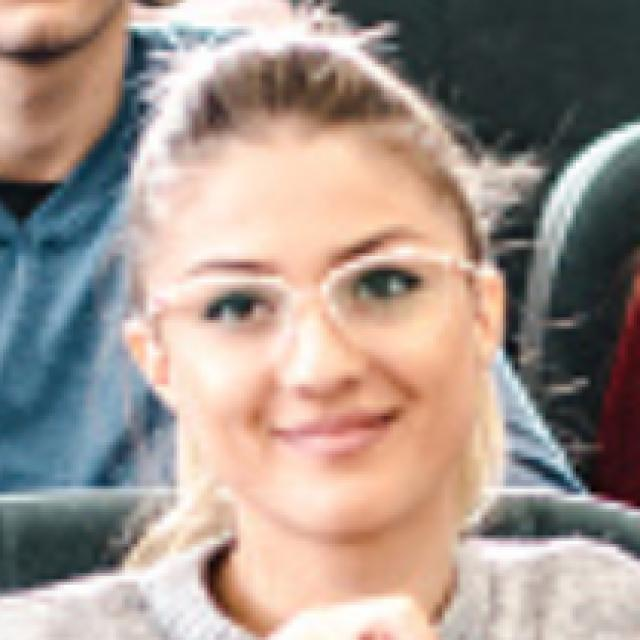Looking forward: (143, 131, 466, 537)
